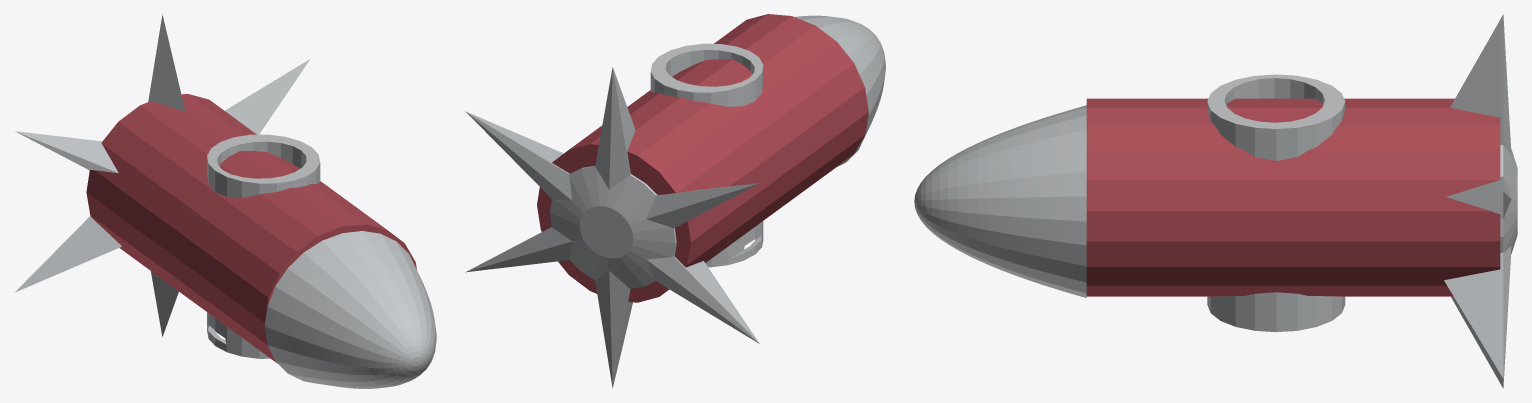
The model's file is Magnificent Kup (3).glb.
3 views of the same model, side by side, from view 1: azimuth 30°, elevation 25°; view 2: azimuth 150°, elevation 25°; view 3: azimuth 270°, elevation 25° (orthographic). The views are drawn at different scales.
Visible parts, largest first — view 1: Mesh_Mesh_head_geo.001_lambert2SG.001; view 2: Mesh_Mesh_head_geo.001_lambert2SG.001; view 3: Mesh_Mesh_head_geo.001_lambert2SG.001.
Boxes of the visible parts, bbox=[...] form: Mesh_Mesh_head_geo.001_lambert2SG.001: bbox=[15, 14, 436, 388]; Mesh_Mesh_head_geo.001_lambert2SG.001: bbox=[465, 14, 885, 387]; Mesh_Mesh_head_geo.001_lambert2SG.001: bbox=[914, 14, 1517, 388].
Size of the model in its own units: 46 by 48 by 70.
